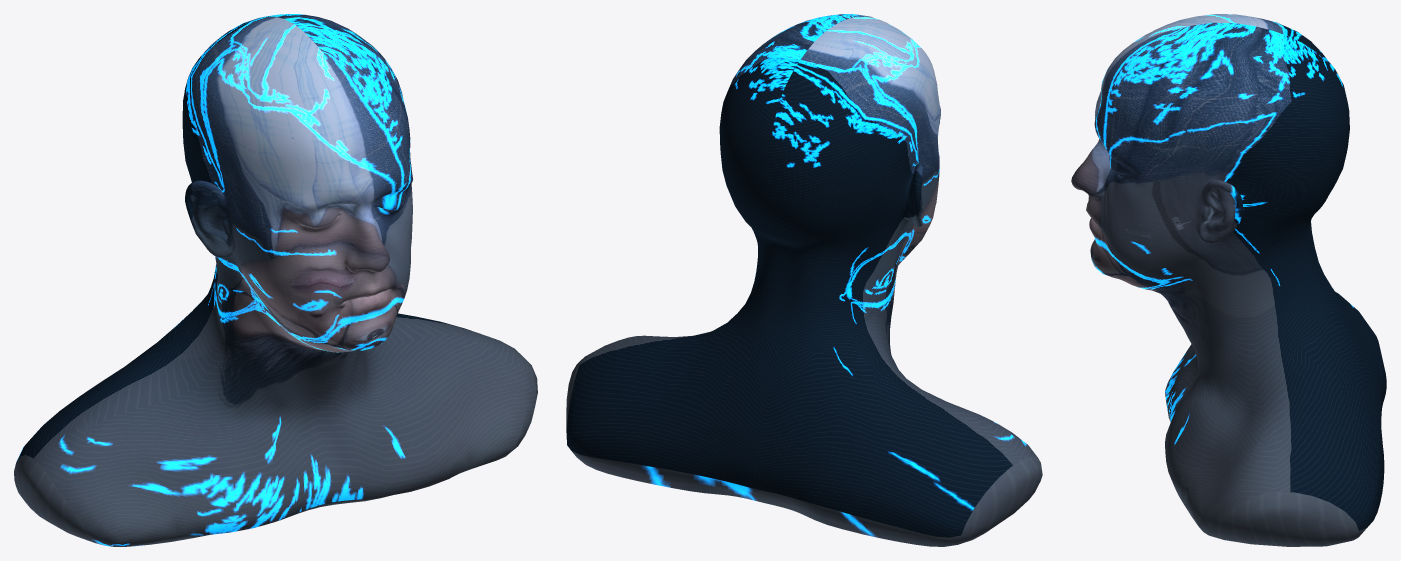
File: holo_1768508627273.glb
3 renders of one model, left to right at view 1: azimuth 30°, elevation 25°; view 2: azimuth 150°, elevation 25°; view 3: azimuth 270°, elevation 25°, orthographic. The views are drawn at different scales.
Visible parts, largest first — view 1: LeePerrySmith; view 2: LeePerrySmith; view 3: LeePerrySmith.
Boxes of the visible parts, box(x1,y1,x2,y2) form: LeePerrySmith: box(14, 14, 537, 546); LeePerrySmith: box(566, 14, 1042, 546); LeePerrySmith: box(1071, 14, 1386, 546).
Size of the model in its own units: 8.55 by 7.95 by 5.18.
Materials: 1 (1 with a texture image).
